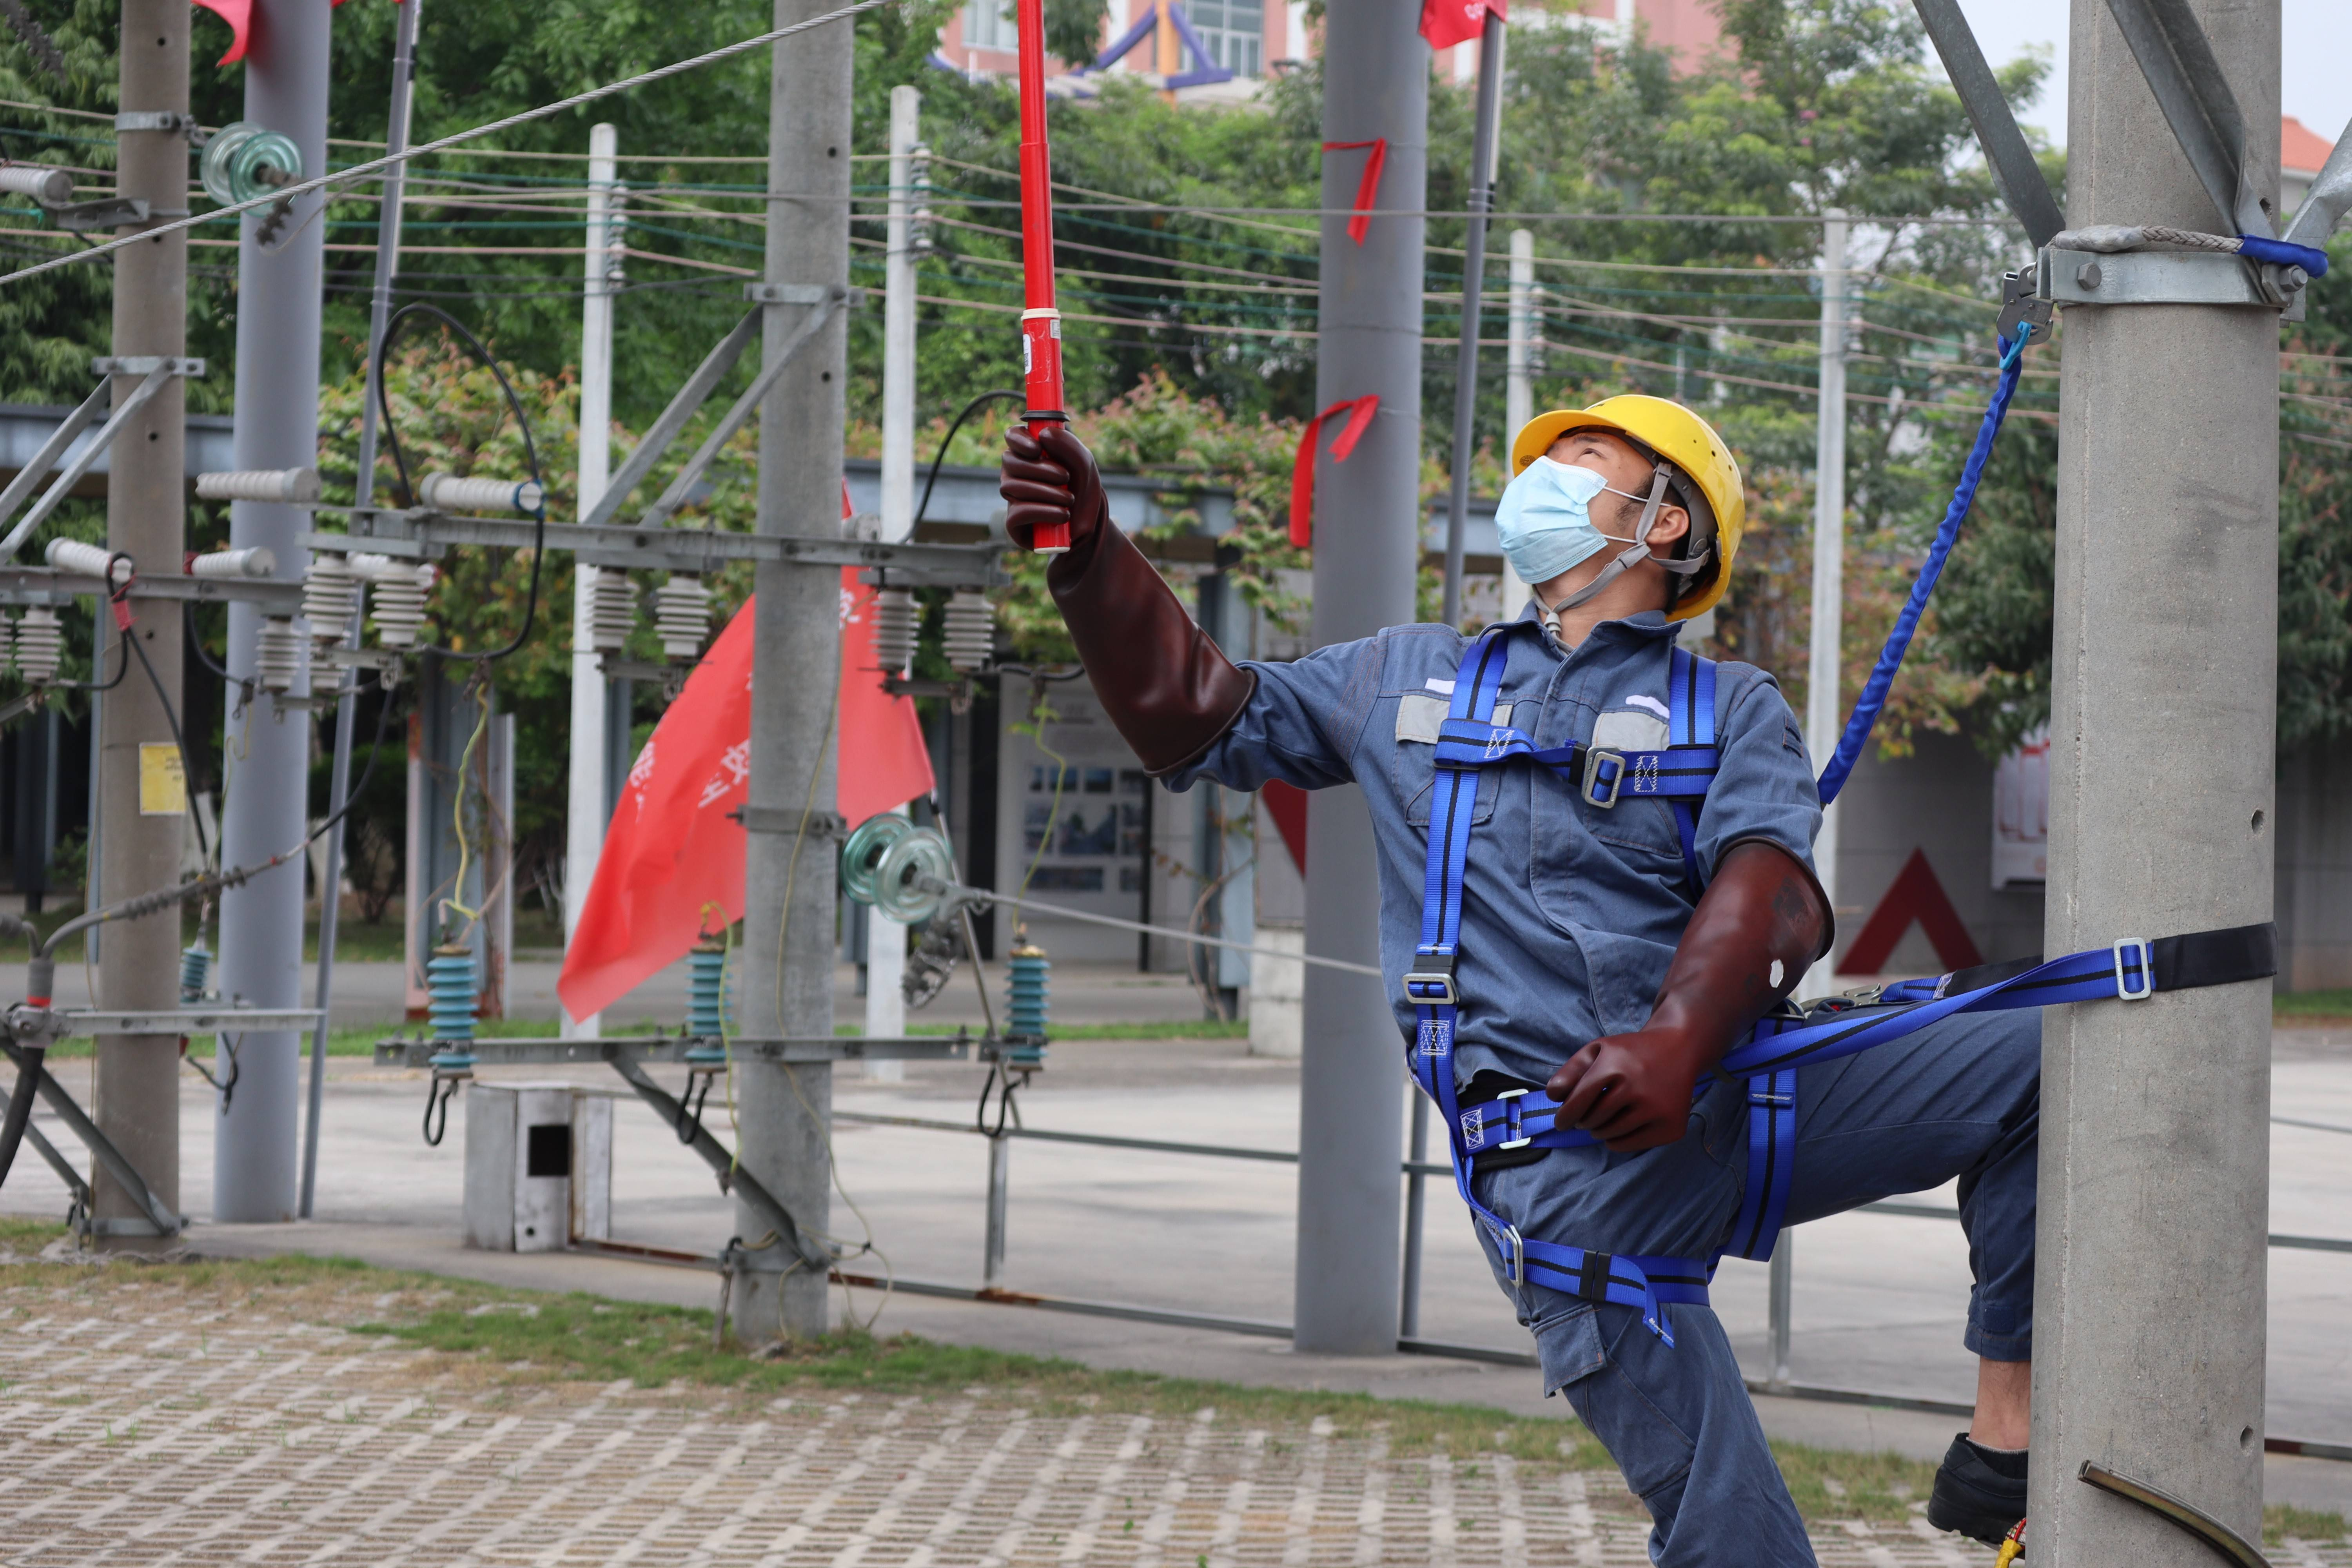downsuit: (1461, 1006, 2051, 1561)
upsuit: (1225, 602, 1809, 1067)
